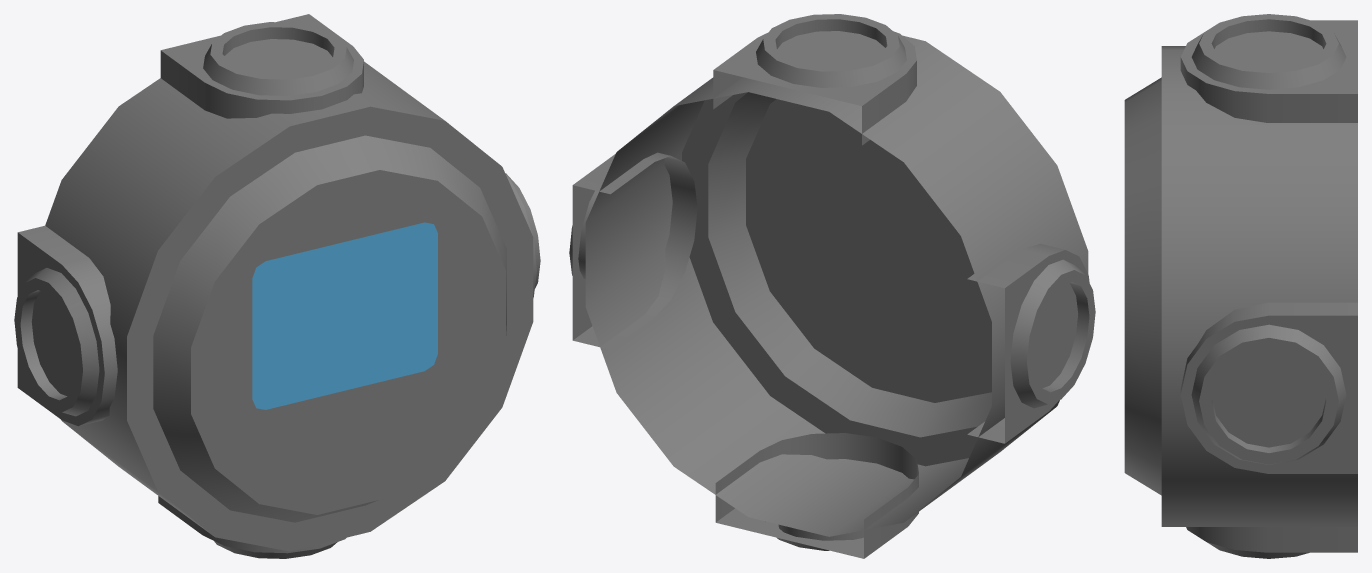
Rendered from Misc_CableBox_01_B_Small.fbx.
3 views of the same model, side by side, from view 1: azimuth 30°, elevation 25°; view 2: azimuth 150°, elevation 25°; view 3: azimuth 270°, elevation 25° (orthographic).
Parts seen in each view (by area): view 1: Misc_CableBox_01_B_Small.001; view 2: Misc_CableBox_01_B_Small.001; view 3: Misc_CableBox_01_B_Small.001.
Boxes of the visible parts, x1=… form: Misc_CableBox_01_B_Small.001: x1=14, y1=14, x2=540, y2=558; Misc_CableBox_01_B_Small.001: x1=569, y1=14, x2=1095, y2=558; Misc_CableBox_01_B_Small.001: x1=1124, y1=14, x2=1357, y2=558.
Size of the model in its own units: 0.1809 by 0.1809 by 0.0788.
